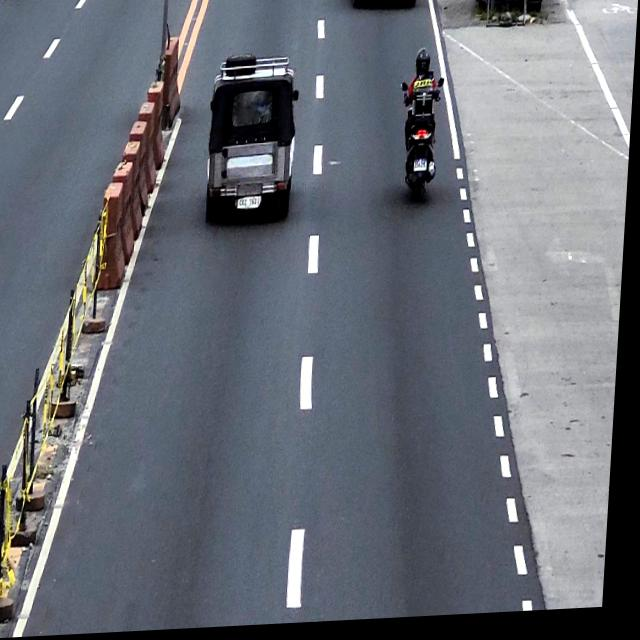Car: (206, 57, 302, 228)
License-Plate: (239, 198, 264, 211), (417, 164, 430, 174)
Motorcycle: (397, 82, 445, 207)
